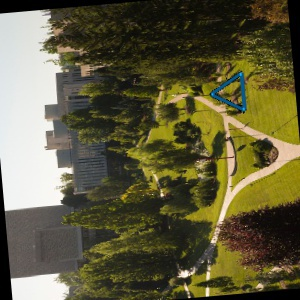triangle: (209, 69, 249, 114)
